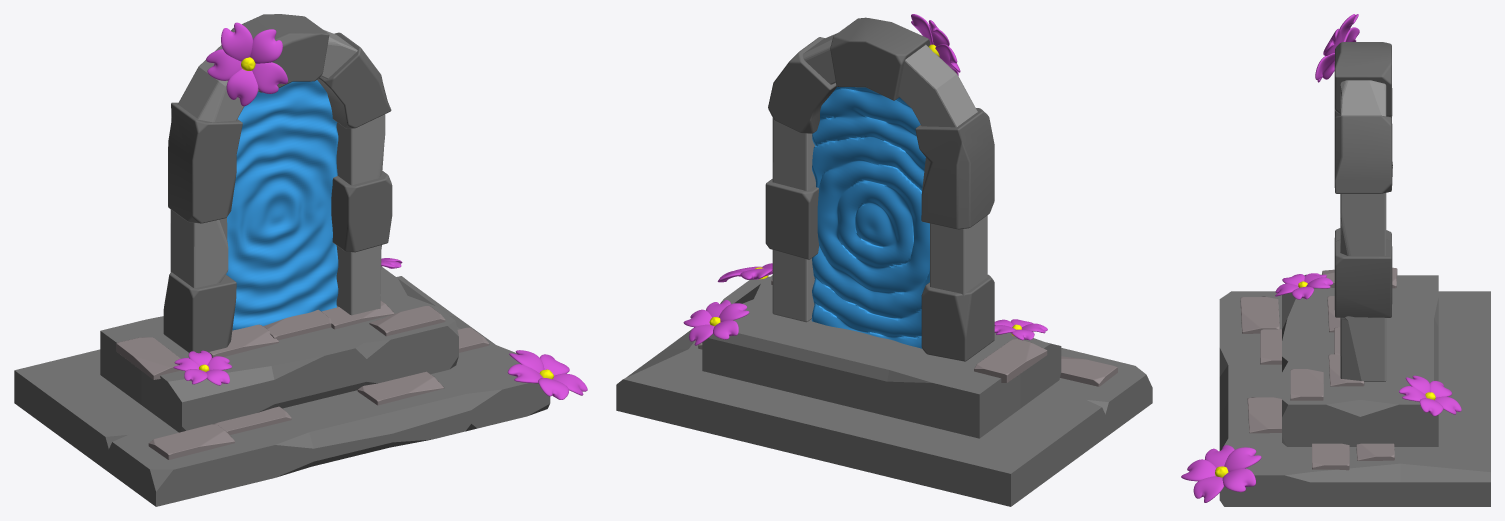
Rendered from Portal.fbx.
3 renders of one model, left to right at view 1: azimuth 30°, elevation 25°; view 2: azimuth 150°, elevation 25°; view 3: azimuth 270°, elevation 25°, orthographic. The views are drawn at different scales.
Parts seen in each view (by area): view 1: Plane.004, Plane.003, Plane.001, Plane.002, Plane, Plane.008, Plane.007, Cube.004, Cube.009, Cube.006, Plane.005, Cube (+4 smaller); view 2: Plane.004, Plane.003, Plane.001, Plane.002, Plane, Cube.009, Plane.006, Cube.004, Plane.008, Plane.005; view 3: Plane.004, Plane.002, Plane.001, Plane, Plane.007, Plane.006, Cube.004, Cube.006, Cube, Plane.008, Cube.007, Plane.005 (+3 smaller).
Part boxes in pixels (x1,y1,x2,y2): Plane.004: (14, 276, 550, 506); Plane.003: (226, 80, 338, 330); Plane.001: (163, 14, 392, 353); Plane.002: (100, 266, 458, 432); Plane: (170, 30, 385, 315); Plane.008: (206, 22, 287, 106); Plane.007: (507, 350, 587, 399); Cube.004: (148, 424, 234, 459); Cube.009: (116, 337, 181, 379); Cube.006: (357, 371, 443, 405); Plane.005: (173, 350, 231, 385); Cube: (369, 305, 445, 336); Plane.004: (616, 276, 1152, 506); Plane.003: (811, 87, 929, 348); Plane.001: (765, 17, 994, 361); Plane.002: (702, 275, 1061, 438); Plane: (772, 33, 987, 322); Cube.009: (974, 339, 1047, 382); Plane.006: (683, 300, 749, 345); Cube.004: (1060, 356, 1117, 386); Plane.008: (911, 14, 960, 75); Plane.005: (994, 319, 1047, 340); Plane.004: (1219, 291, 1490, 506); Plane.002: (1282, 274, 1438, 446); Plane.001: (1334, 42, 1392, 317); Plane: (1340, 80, 1386, 381); Plane.007: (1181, 445, 1261, 502); Plane.006: (1399, 375, 1461, 416); Cube.004: (1240, 296, 1279, 333); Cube.006: (1247, 397, 1281, 433); Cube: (1290, 369, 1323, 400); Plane.008: (1315, 14, 1359, 82); Cube.007: (1312, 443, 1349, 470); Plane.005: (1275, 273, 1333, 299).
Bounding box in the file's own units: 696 × 620 × 459.
